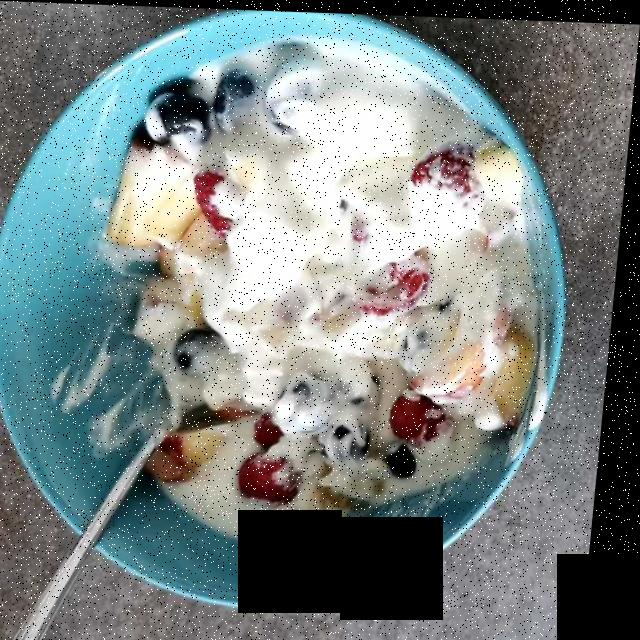raspberries: (190, 132, 477, 502)
yaourt-yahourt-yogourt-ou-yoghourt-natural: (148, 71, 529, 545)
